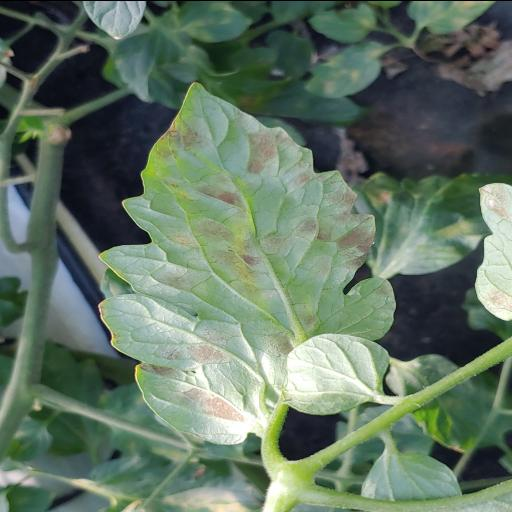Leaf Mold: (92, 80, 400, 446)
